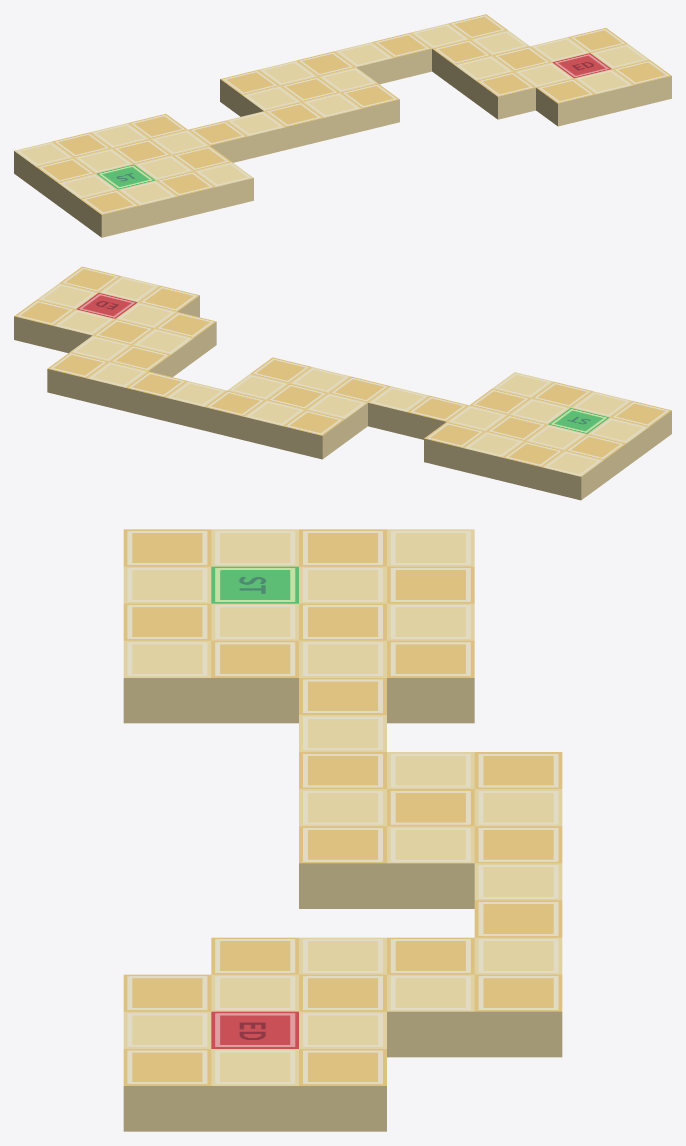
The model's file is mazeBlock2.glb.
3 renders of one model, top to bottom at view 1: azimuth 30°, elevation 25°; view 2: azimuth 150°, elevation 25°; view 3: azimuth 270°, elevation 25°, orthographic. The views are drawn at different scales.
Parts seen in each view (by area): view 1: 立方体.044, 立方体.011, 立方体.035, 立方体.012, 立方体.013, 立方体.014, 立方体.019, 立方体.016, 立方体.021, 立方体.042, 立方体.026, 立方体.043 (+32 smaller); view 2: 立方体.030, 立方体.017, 立方体.027, 立方体.018, 立方体.006, 立方体.026, 立方体.015, 立方体.028, 立方体.029, 立方体.032, 立方体.041, 立方体.016 (+32 smaller); view 3: 立方体.013, 立方体.032, 立方体.007, 立方体.018, 立方体.033, 立方体.042, 立方体.021, 立方体.023, 立方体.041, 立方体.045, 立方体.011, 立方体.026 (+32 smaller).
Boxes of the visible parts, bbox=[...] form: 立方体.044: bbox=[536, 78, 595, 126]; 立方体.011: bbox=[80, 189, 139, 237]; 立方体.035: bbox=[476, 71, 535, 119]; 立方体.012: bbox=[118, 180, 177, 228]; 立方体.013: bbox=[194, 162, 253, 209]; 立方体.014: bbox=[156, 171, 215, 218]; 立方体.019: bbox=[302, 92, 361, 140]; 立方体.016: bbox=[226, 111, 285, 159]; 立方体.021: bbox=[340, 83, 399, 131]; 立方体.042: bbox=[612, 60, 671, 107]; 立方体.026: bbox=[372, 33, 431, 80]; 立方体.043: bbox=[574, 69, 633, 116]; 立方体.030: bbox=[283, 410, 345, 459]; 立方体.017: bbox=[542, 450, 603, 500]; 立方体.027: bbox=[204, 390, 266, 440]; 立方体.018: bbox=[424, 422, 485, 471]; 立方体.006: bbox=[502, 441, 563, 490]; 立方体.026: bbox=[126, 371, 187, 420]; 立方体.015: bbox=[463, 431, 524, 481]; 立方体.028: bbox=[165, 381, 226, 430]; 立方体.029: bbox=[244, 400, 305, 449]; 立方体.032: bbox=[47, 352, 108, 401]; 立方体.041: bbox=[14, 300, 75, 349]; 立方体.016: bbox=[368, 386, 429, 435]; 立方体.013: bbox=[123, 640, 211, 723]; 立方体.032: bbox=[474, 974, 562, 1057]; 立方体.007: bbox=[211, 640, 298, 723]; 立方体.018: bbox=[387, 640, 474, 723]; 立方体.033: bbox=[387, 974, 474, 1057]; 立方体.042: bbox=[123, 1049, 211, 1131]; 立方体.021: bbox=[299, 826, 386, 908]; 立方体.023: bbox=[387, 826, 474, 908]; 立方体.041: bbox=[299, 1049, 386, 1131]; 立方体.045: bbox=[211, 1049, 298, 1131]; 立方体.011: bbox=[123, 529, 211, 566]; 立方体.026: bbox=[474, 900, 562, 937].
Size of the model in its own units: 75 by 2.87 by 25.
88 materials, 44 textured.
